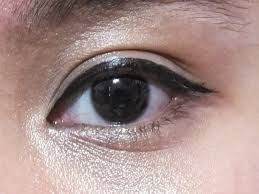pupil: (91, 72, 148, 122)
